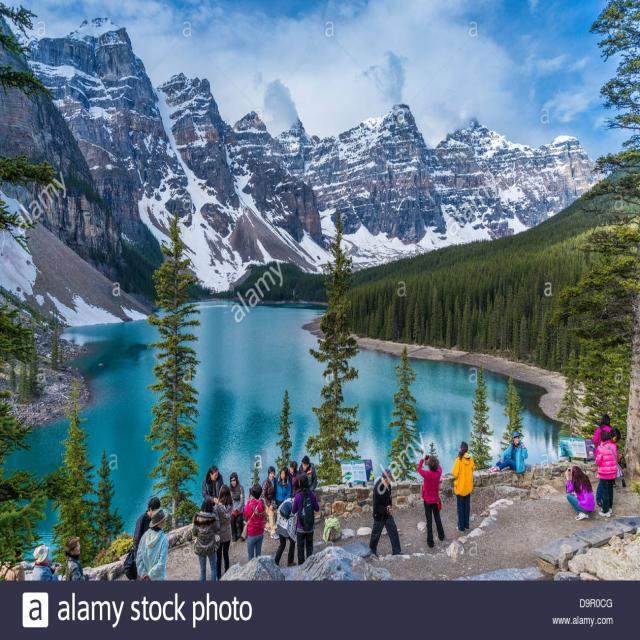body: (122, 495, 162, 581), (367, 467, 404, 557), (290, 473, 320, 573), (417, 452, 447, 548), (135, 507, 169, 580), (192, 497, 221, 582), (452, 439, 476, 533), (595, 427, 622, 508), (212, 483, 234, 582), (594, 428, 618, 518), (564, 463, 596, 521), (487, 430, 529, 474), (243, 482, 265, 562), (274, 496, 298, 566), (63, 535, 98, 581), (260, 466, 280, 540), (0, 530, 25, 587), (228, 471, 246, 543), (200, 465, 224, 514), (32, 544, 62, 580), (592, 413, 613, 457), (275, 465, 292, 509), (298, 456, 317, 492), (288, 459, 302, 499)
